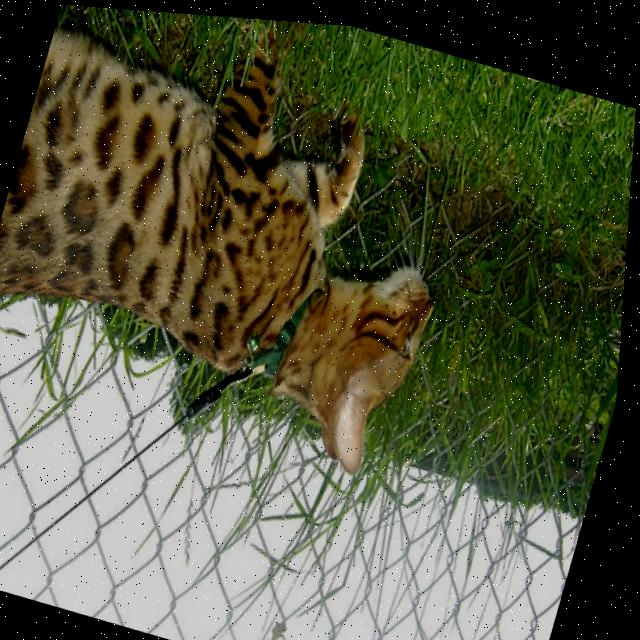Bengal: (0, 0, 505, 496)
